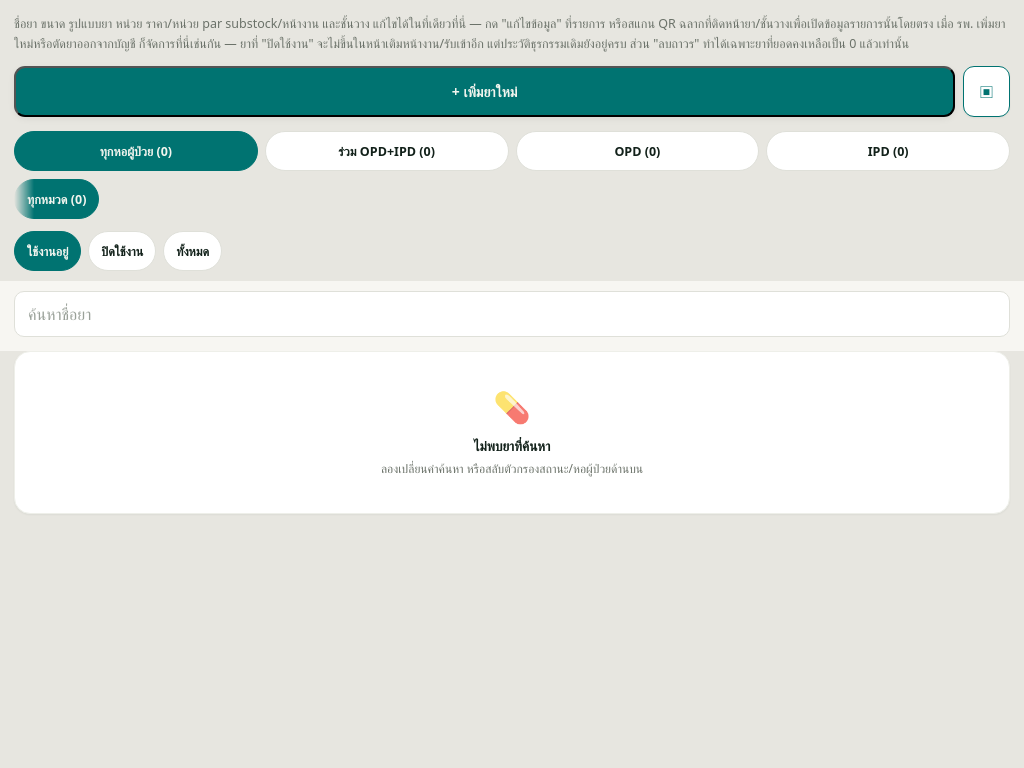
it: MedsScreen — add/edit form route chips regression › offers every route in ROUTES as a chip in the add-med form, not just ยากิน/ยาฉีด/อื่นๆ
The image size is (1024, 768).
What coordinates should you click on to do the following:
click the button "+ เพิ่มยาใหม่"
I would click on:
 (485, 92)
Its box is [14,66,955,117].
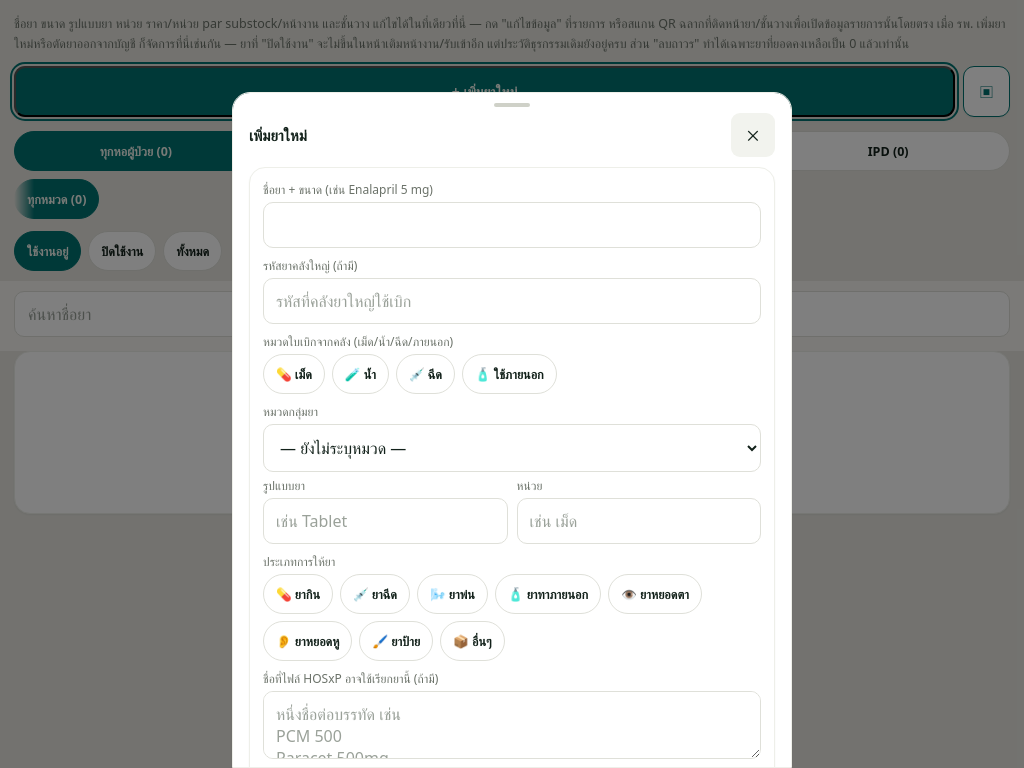
Now the button "💊 ยากิน" is shown, box [263,574,333,614]
Now the button "💉 ยาฉีด" is shown, box [340,574,410,614]
Now the button "🌬️ ยาพ่น" is shown, box [417,574,488,614]
